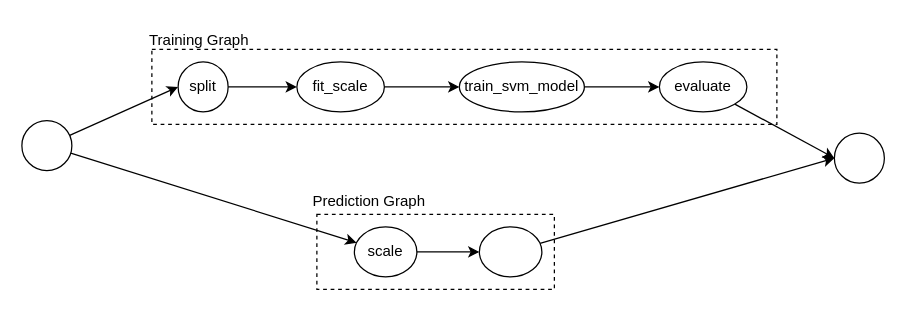
Some shapes in this 906 by 311 pixel diagram are drawn without their labels. Each missing label, with the box of its shape:
data: (21, 119, 72, 171)
graph: (833, 132, 884, 183)
predict: (478, 226, 542, 277)
